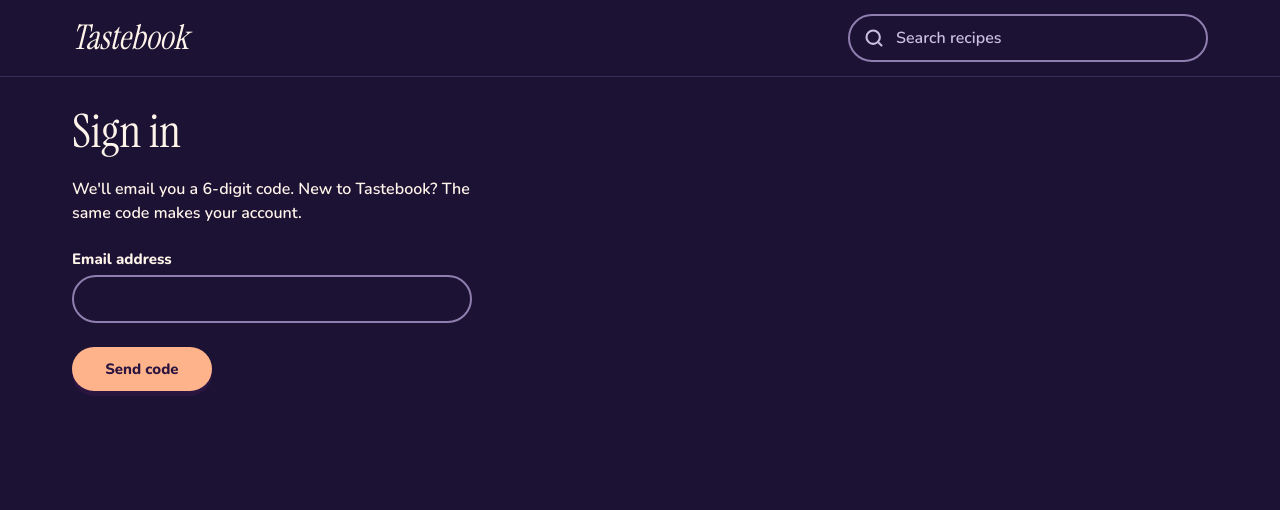
Test: SignInPage › signs an existing account in with the emailed code and goes back to the page
The image size is (1280, 510).
Type "sam@example.com" into the field labelled "Email address".
click(272, 299); type("sam@example.com")  # box [72,275,472,323]
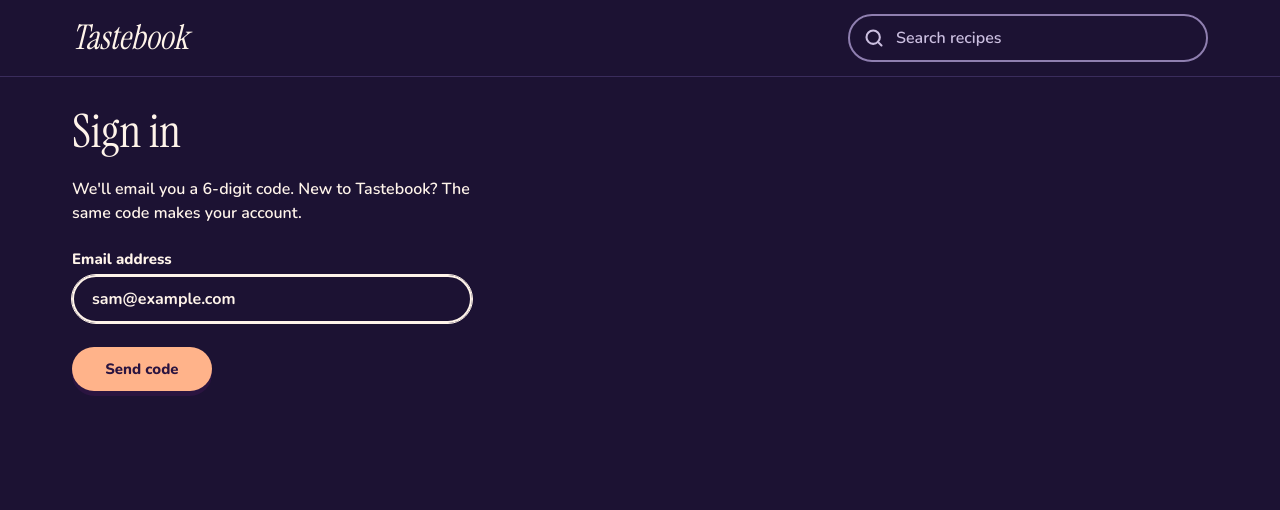
Click the button "Send code".
click(142, 369)  # box [72,347,212,391]
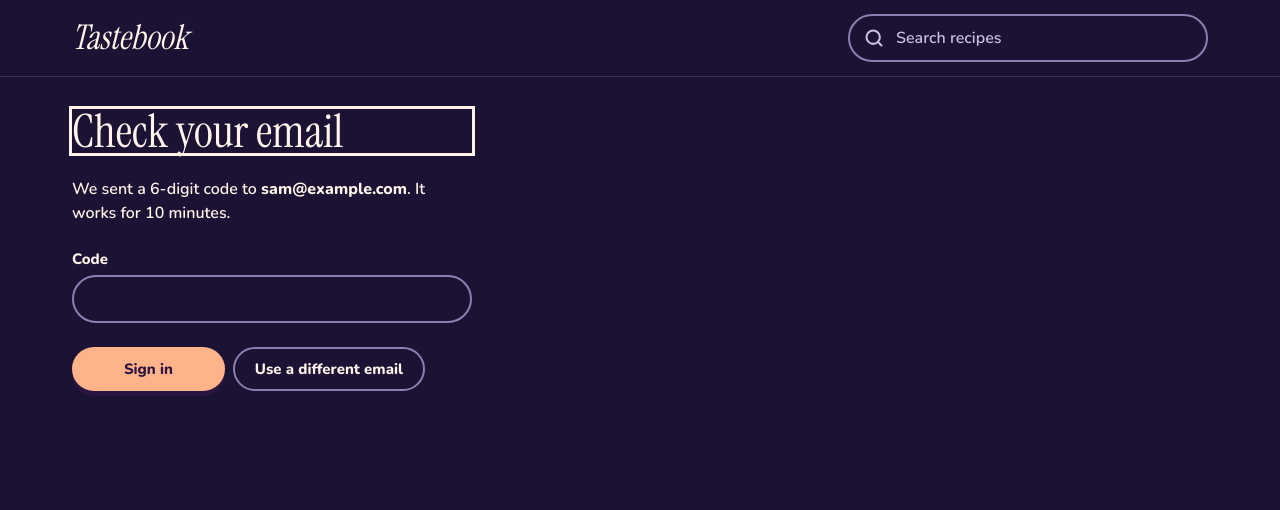
Type "123456" into the field labelled "Code".
click(272, 299); type("123456")  # box [72,275,472,323]
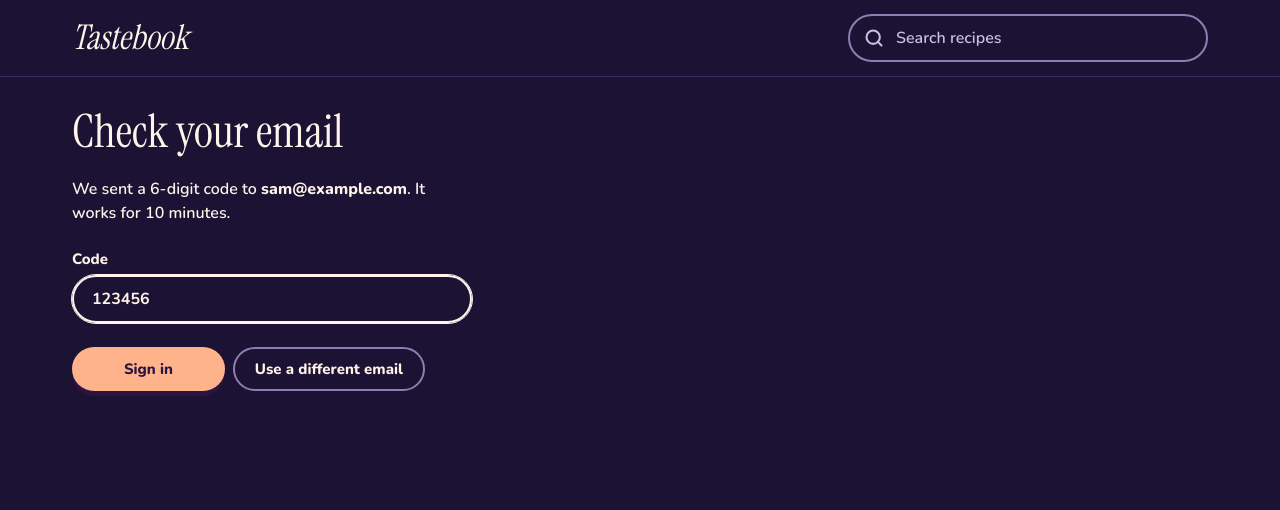
Click the button "Sign in".
click(148, 369)  # box [72,347,225,391]
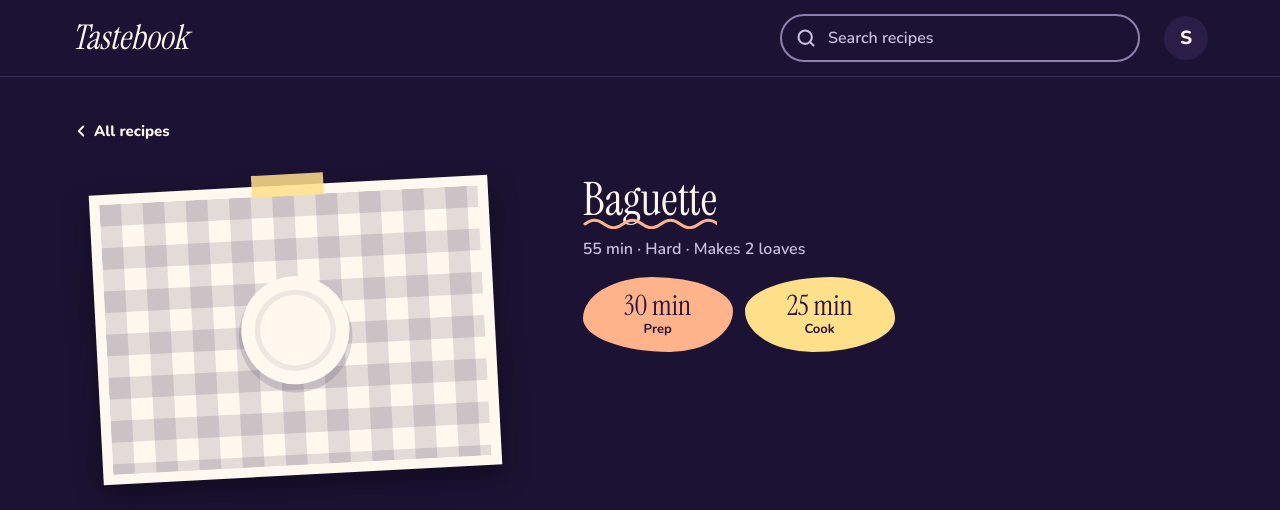
Expected: the heading "Baguette" is shown, [583,169,717,229]
